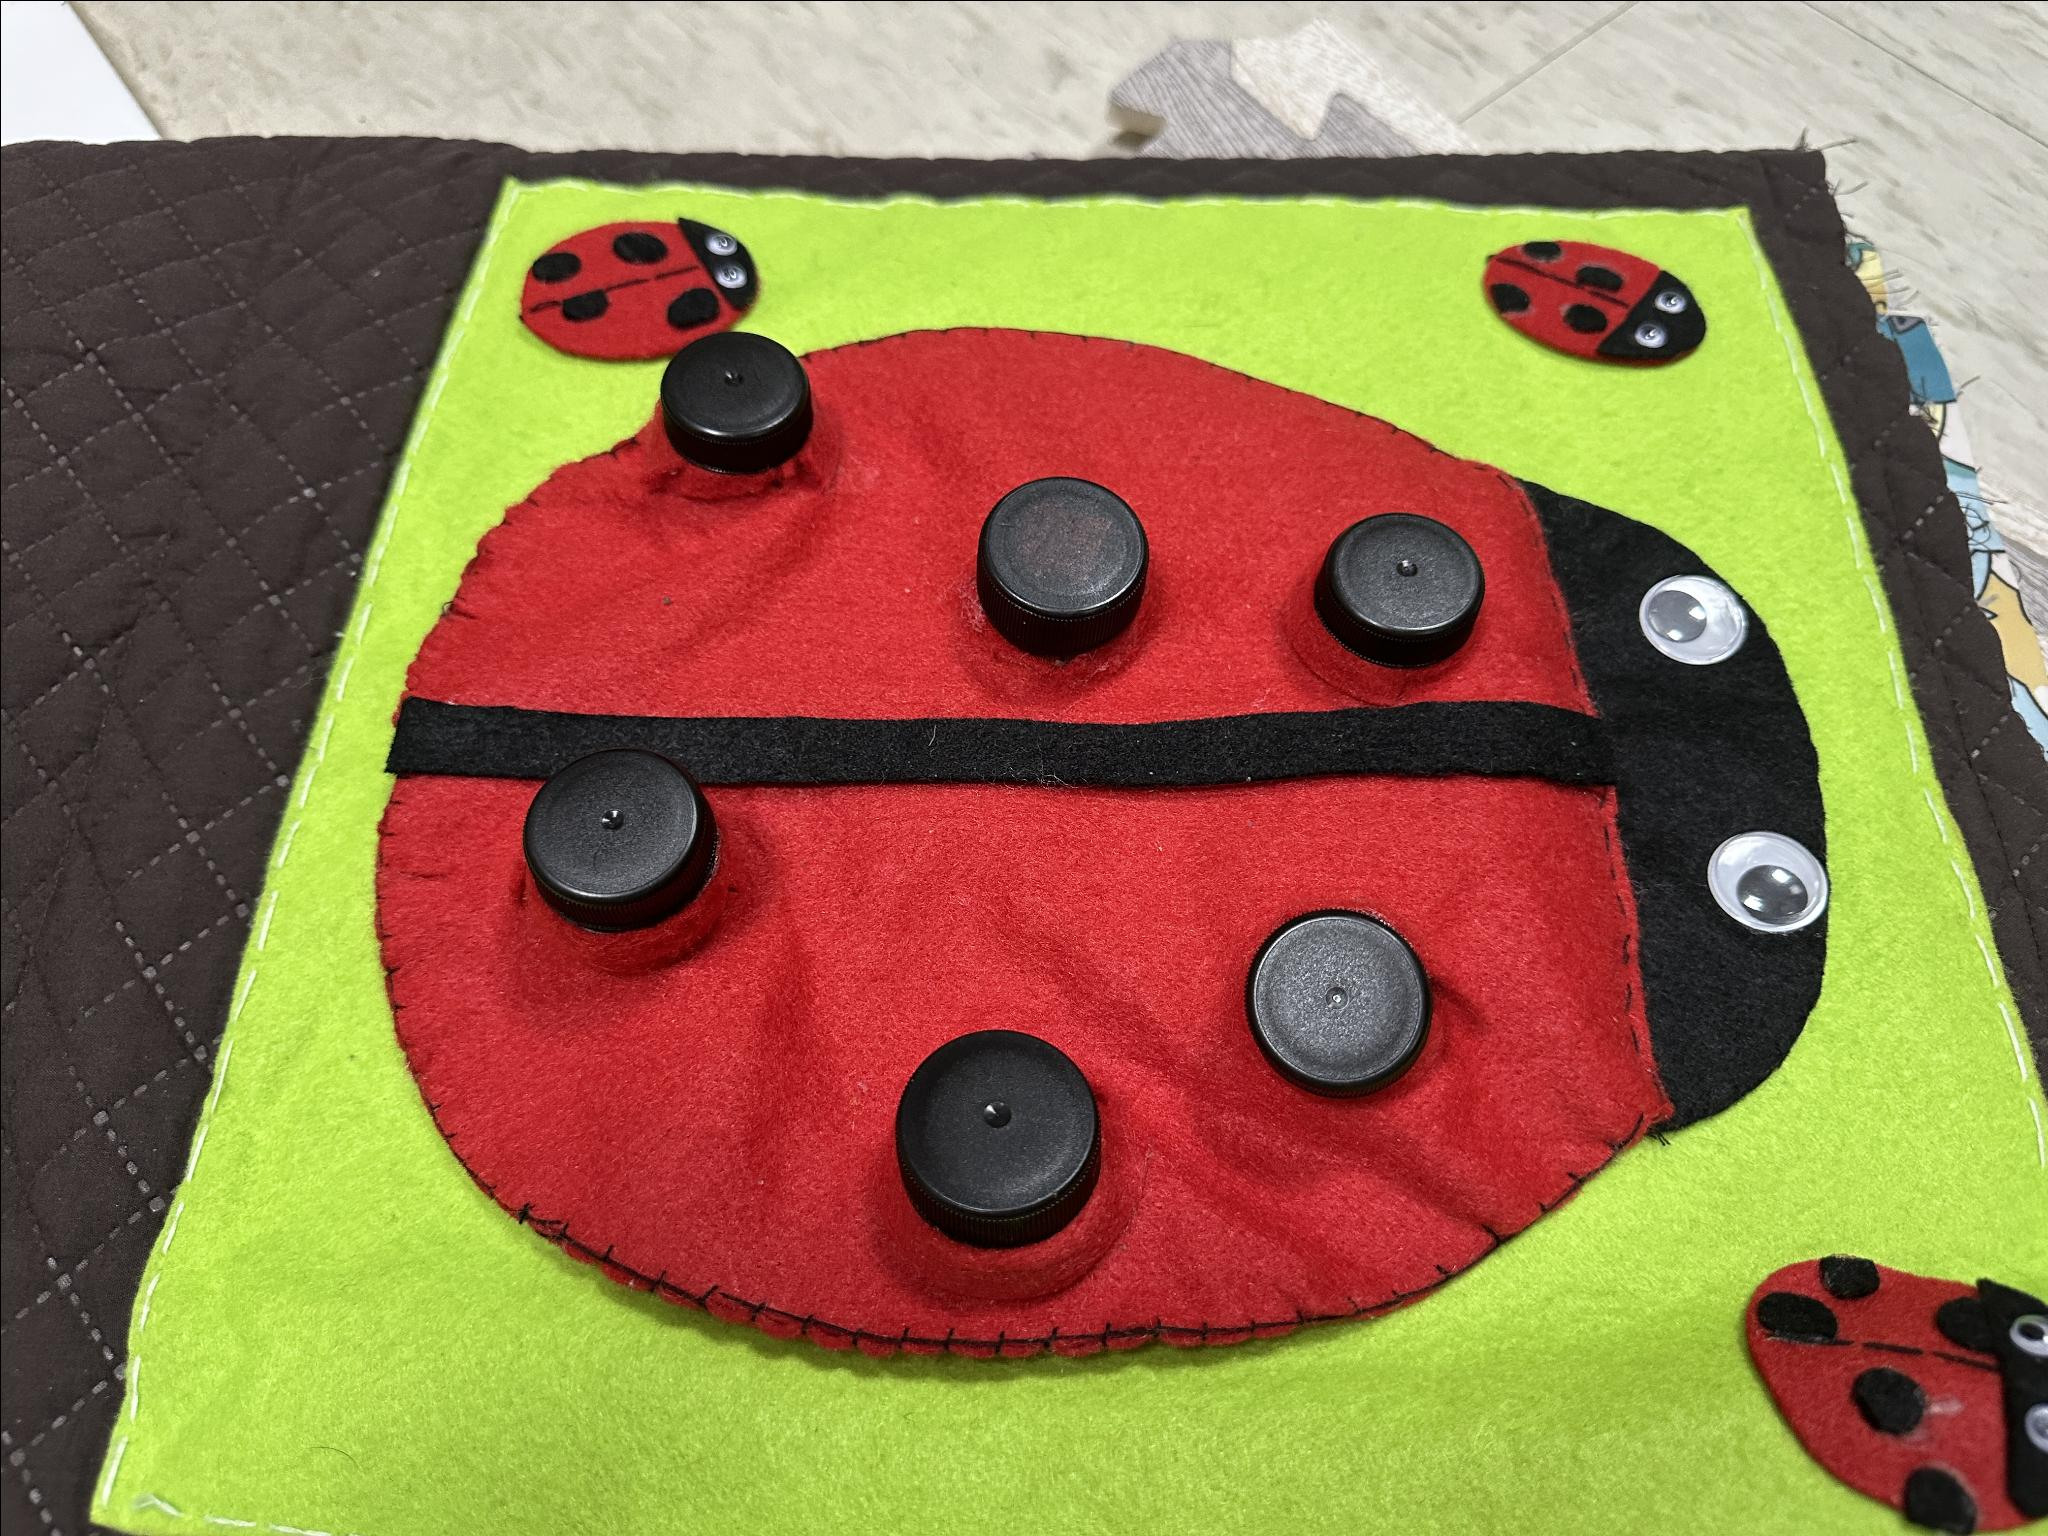cap_ok: (832, 989, 1132, 1323), (922, 463, 1166, 707), (1214, 879, 1448, 1121), (489, 739, 732, 966), (1259, 500, 1496, 721), (598, 323, 826, 531)
